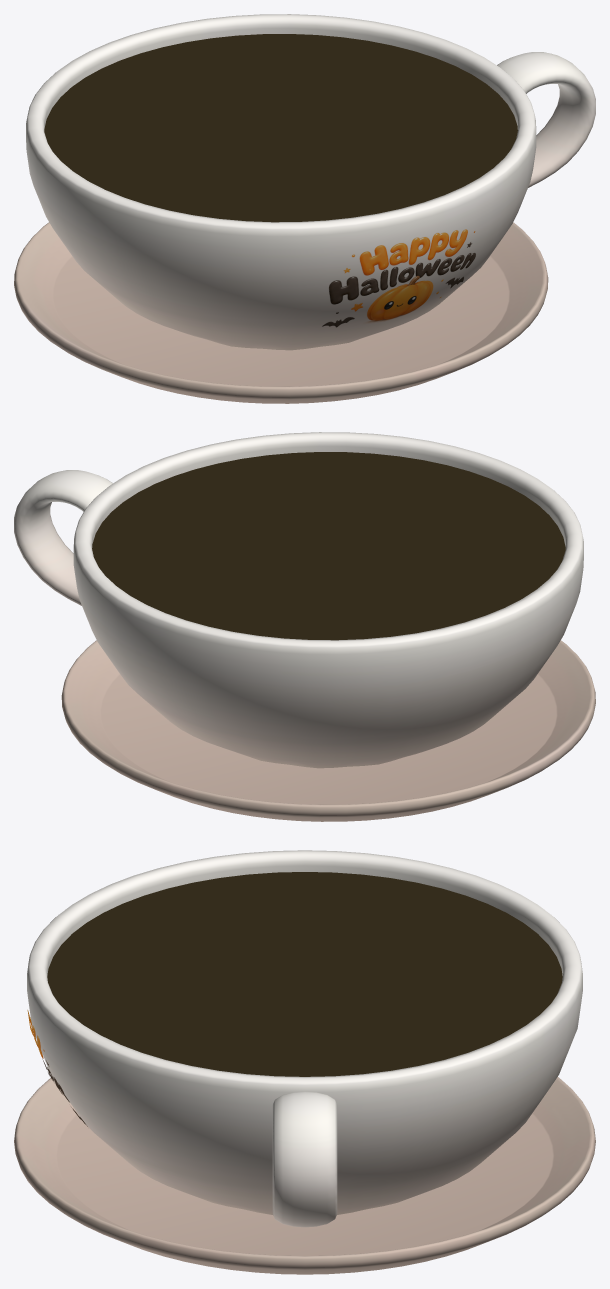
The model's file is Mug.glb.
3 renders of one model, top to bottom at view 1: azimuth 30°, elevation 25°; view 2: azimuth 150°, elevation 25°; view 3: azimuth 270°, elevation 25°, orthographic. The views are drawn at different scales.
Parts seen in each view (by area): view 1: Sphere005, Cylinder006, Object001, Line001; view 2: Sphere005, Cylinder006, Line001; view 3: Sphere005, Cylinder006, Line001.
Part boxes in pixels (bbox=[...]): Sphere005: bbox=[26, 14, 536, 350]; Cylinder006: bbox=[14, 222, 548, 403]; Object001: bbox=[322, 229, 475, 327]; Line001: bbox=[497, 52, 595, 187]; Sphere005: bbox=[73, 432, 583, 768]; Cylinder006: bbox=[61, 640, 595, 821]; Line001: bbox=[14, 470, 112, 605]; Sphere005: bbox=[27, 850, 582, 1214]; Cylinder006: bbox=[14, 1077, 595, 1274]; Line001: bbox=[272, 1091, 337, 1227].
Size of the model in its own units: 2.84 by 0.9432 by 2.44.
3 materials, 2 textured.
